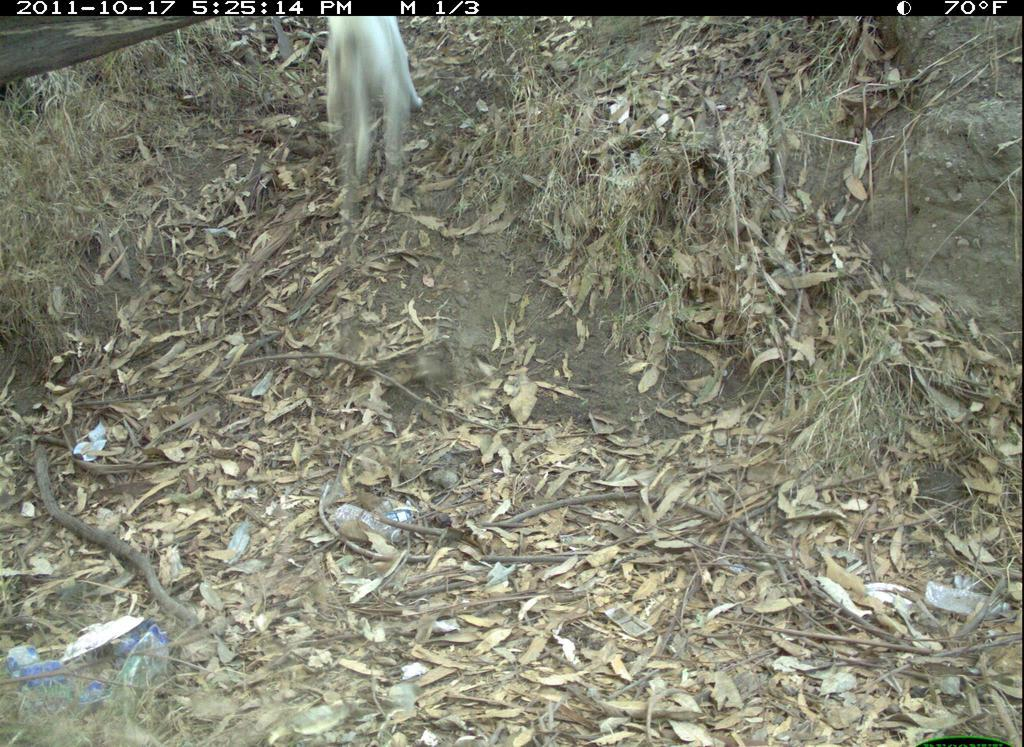dog: (277, 13, 428, 205)
